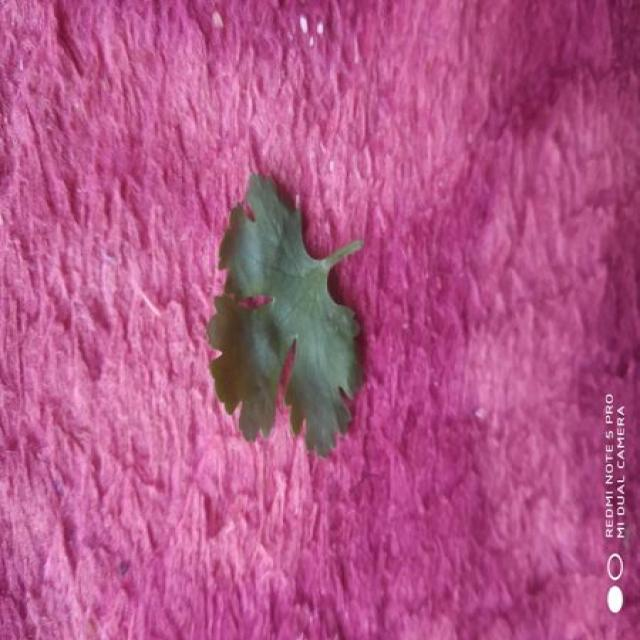wilt: (207, 175, 362, 456)
